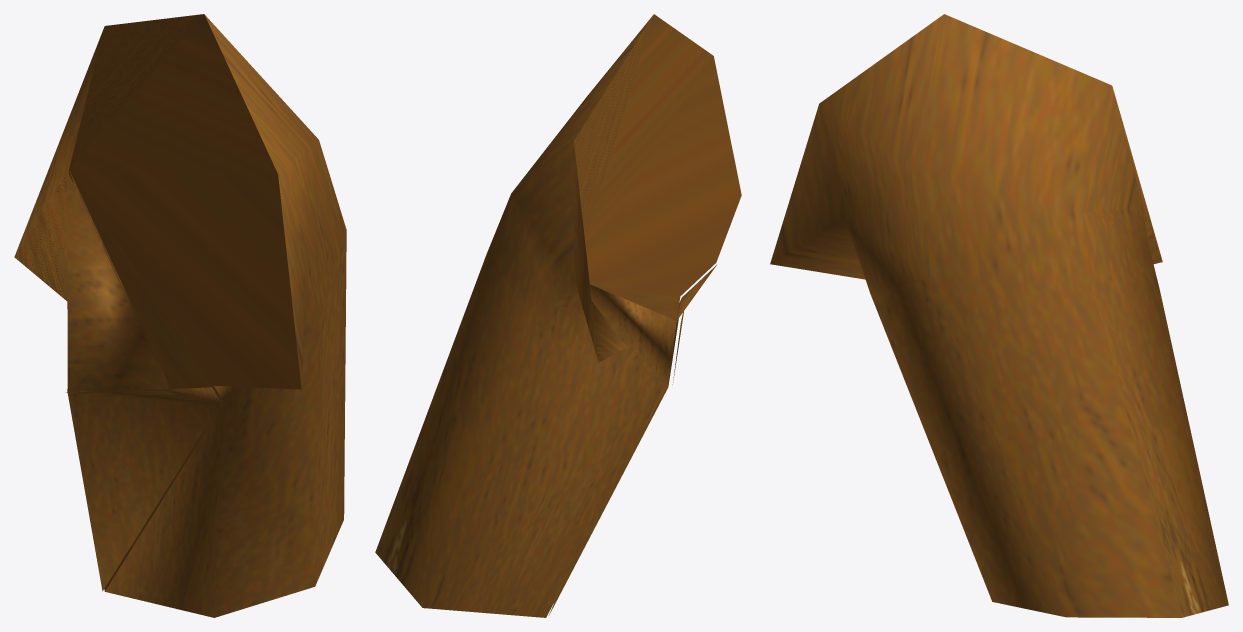
File: bicepDer.obj
3 renders of one model, left to right at view 1: azimuth 30°, elevation 25°; view 2: azimuth 150°, elevation 25°; view 3: azimuth 270°, elevation 25°, orthographic. The views are drawn at different scales.
Parts seen in each view (by area): view 1: polySurface37; view 2: polySurface37; view 3: polySurface37.
Boxes of the visible parts, x1,y1,x2,y2 form: polySurface37: (14, 14, 346, 617); polySurface37: (375, 14, 741, 617); polySurface37: (770, 14, 1228, 617).
Size of the model in its own units: 0.141 by 0.3054 by 0.2252.
Materials: 3 (3 with a texture image).
